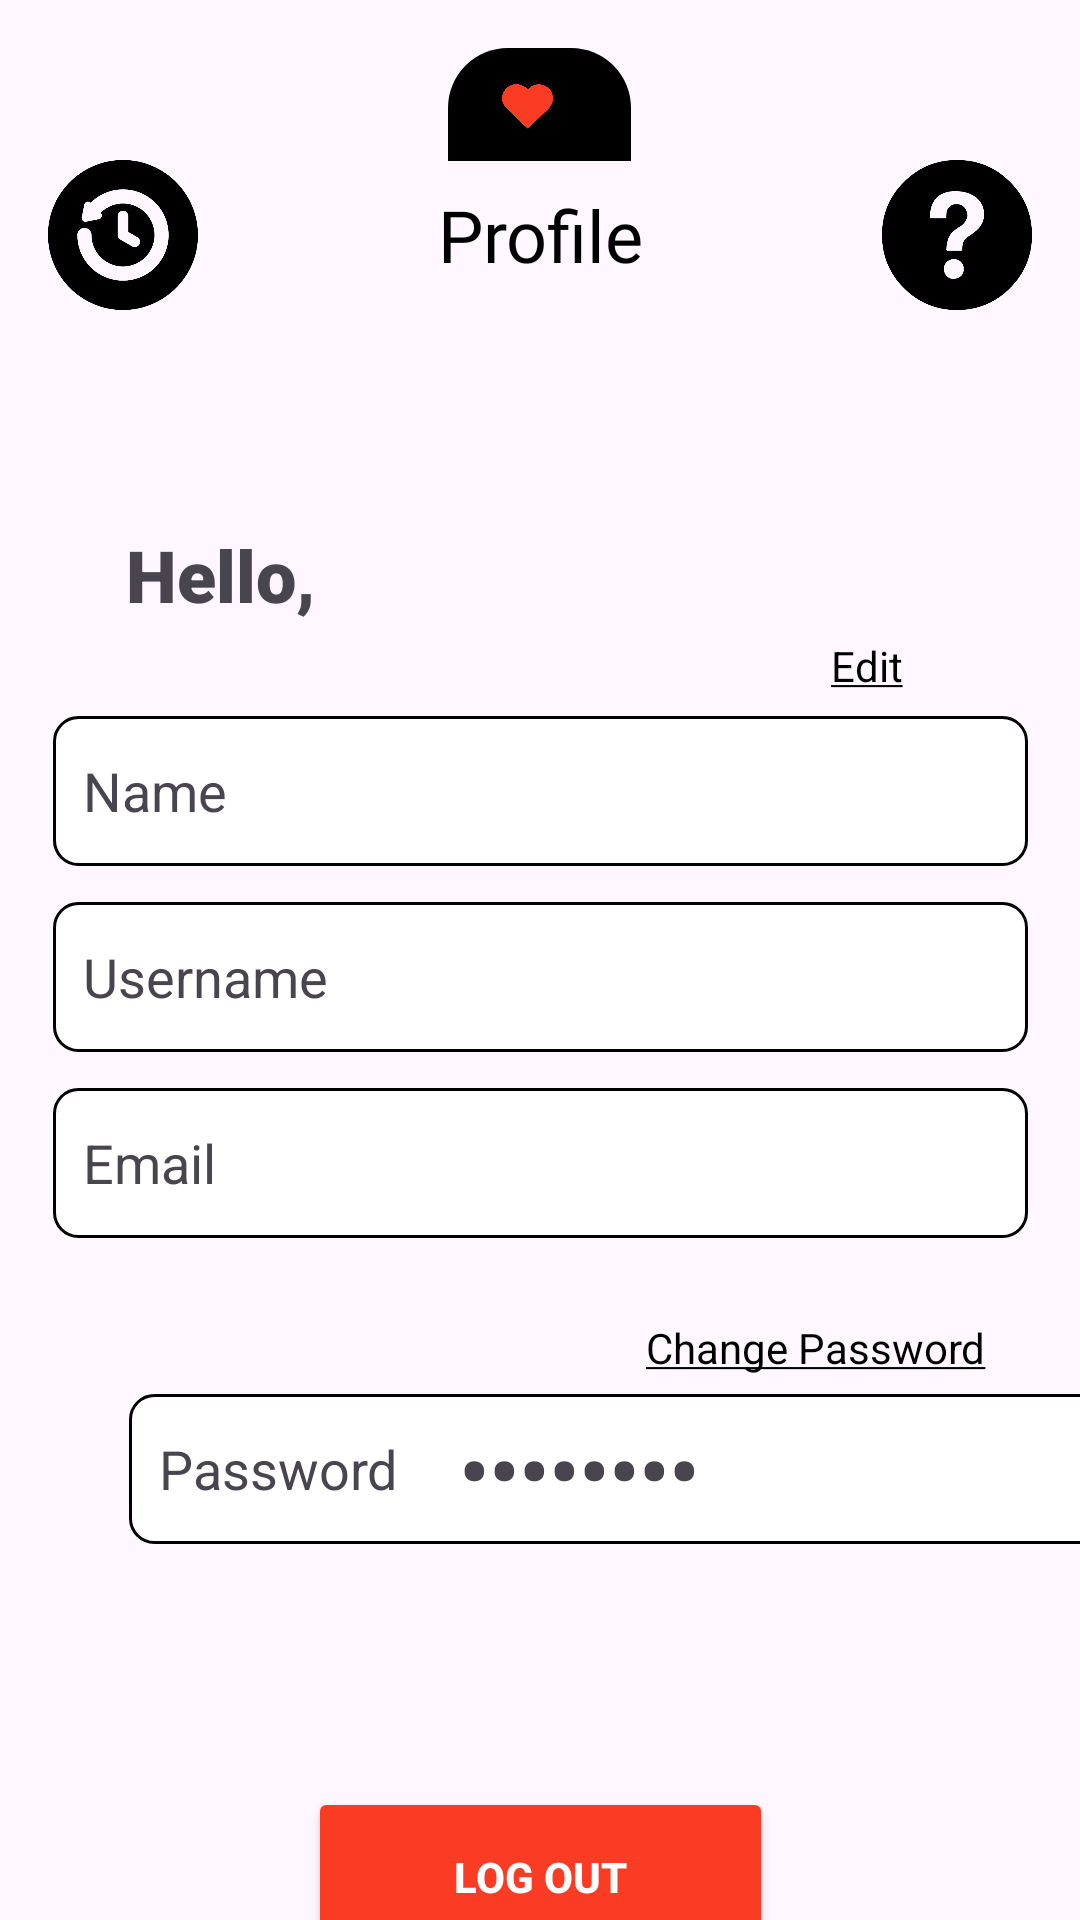

Named icons in this screenshot (1080×1920) and their centers, point (x, y):
Heart Icon: point (527, 106)
Help Icon: point (957, 235)
History Icon: point (123, 235)
